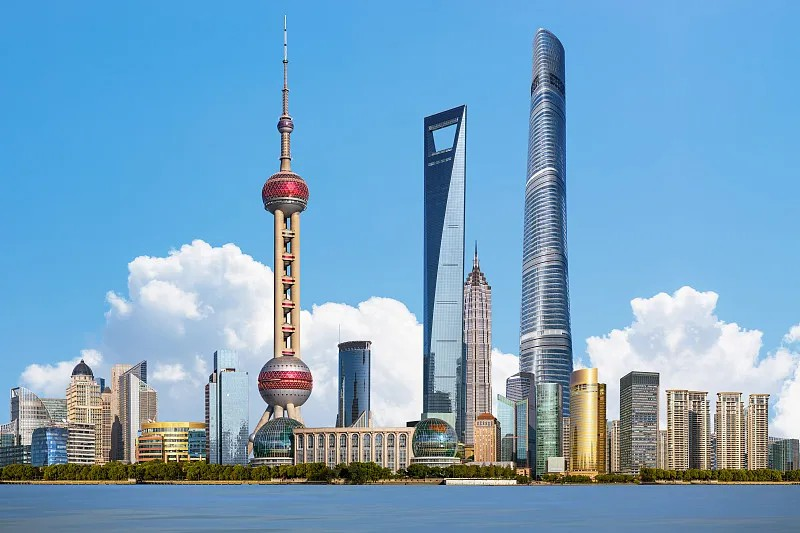Oriental: (248, 15, 316, 435)
